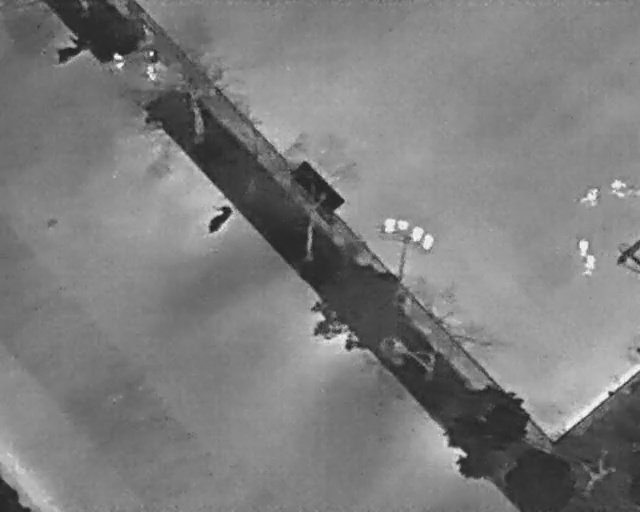Bicycle: (50, 31, 92, 69), (201, 200, 237, 238)
Person: (579, 184, 600, 207), (608, 179, 627, 200), (145, 51, 159, 79), (582, 254, 599, 277), (113, 52, 125, 71), (578, 238, 589, 257)
